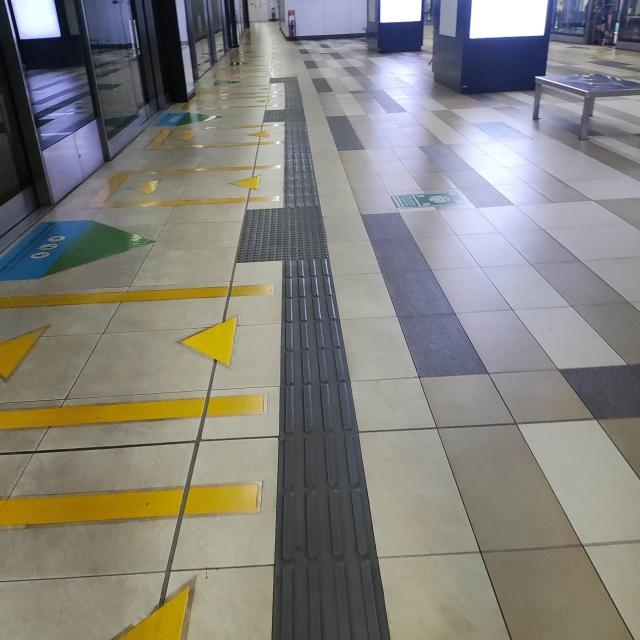lurus: (286, 262, 384, 640), (276, 120, 322, 210)
